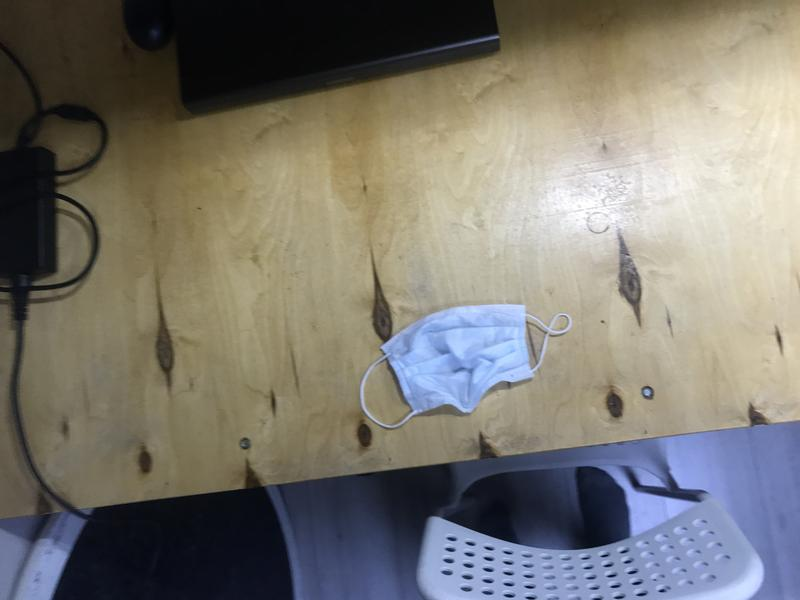medical_mask: (359, 305, 574, 429)
